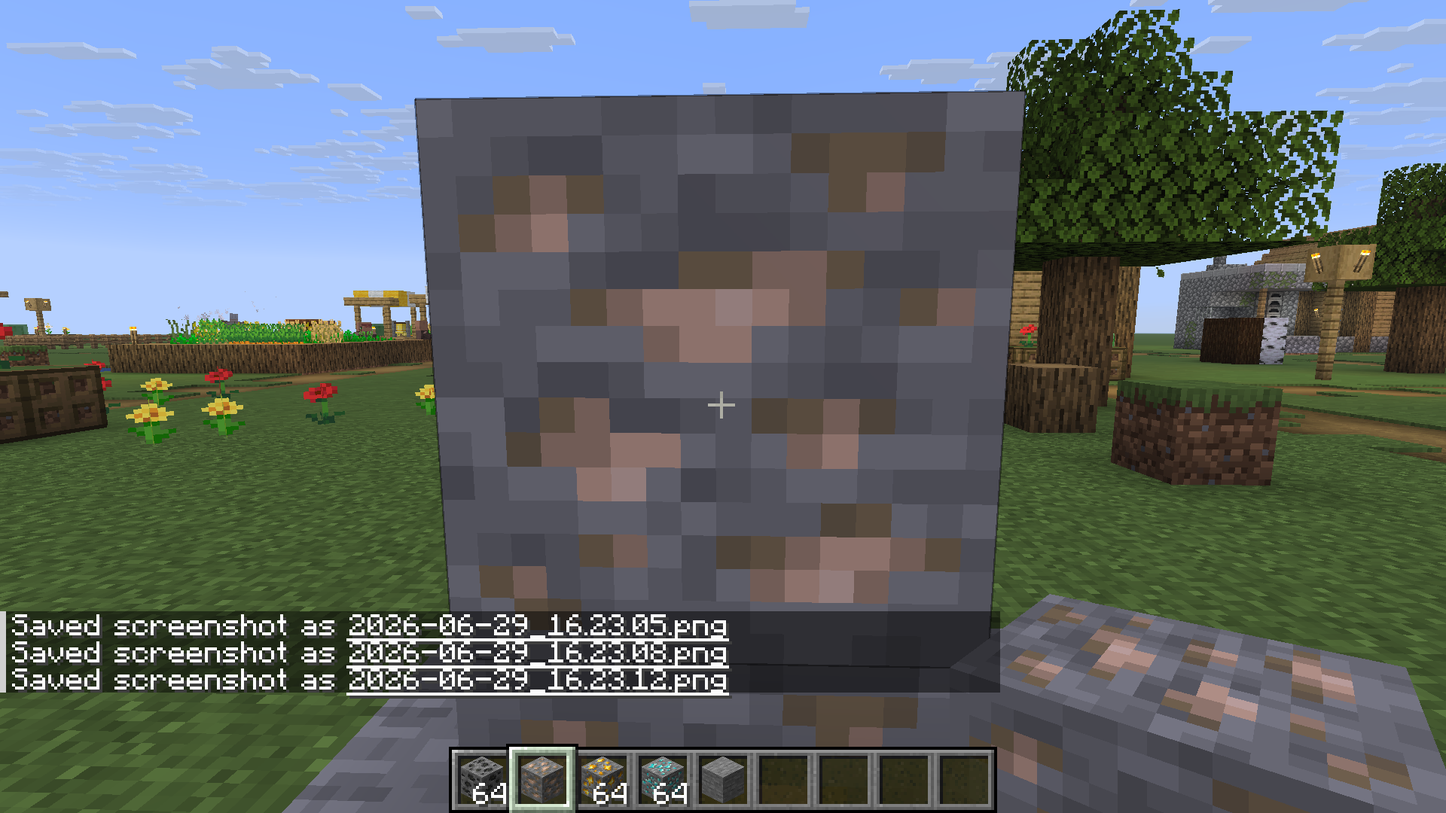iron ore: (417, 101, 1015, 614)
